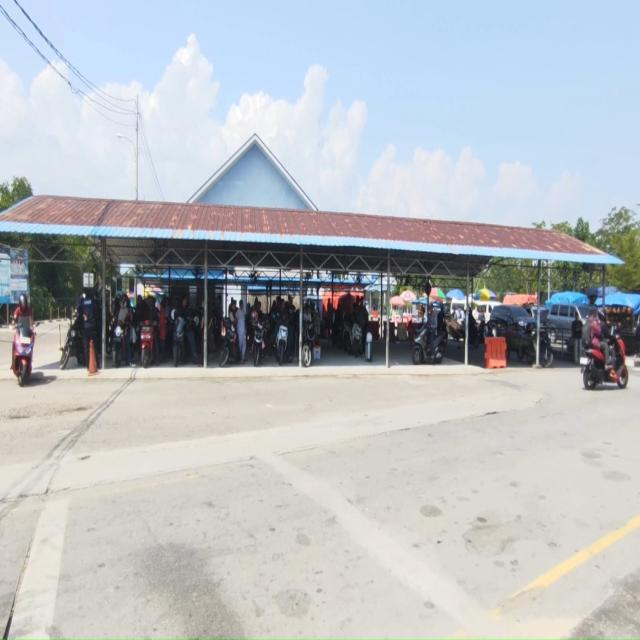Golongan II: (580, 326, 629, 390), (172, 309, 199, 367), (517, 327, 554, 368), (60, 314, 86, 370), (13, 326, 35, 387), (412, 323, 444, 364), (447, 315, 484, 348), (219, 318, 240, 368), (111, 321, 129, 368), (139, 320, 156, 369), (172, 309, 186, 367), (302, 320, 316, 368), (251, 319, 265, 366), (105, 314, 118, 356), (276, 324, 288, 366), (348, 322, 362, 357), (339, 318, 352, 352)
